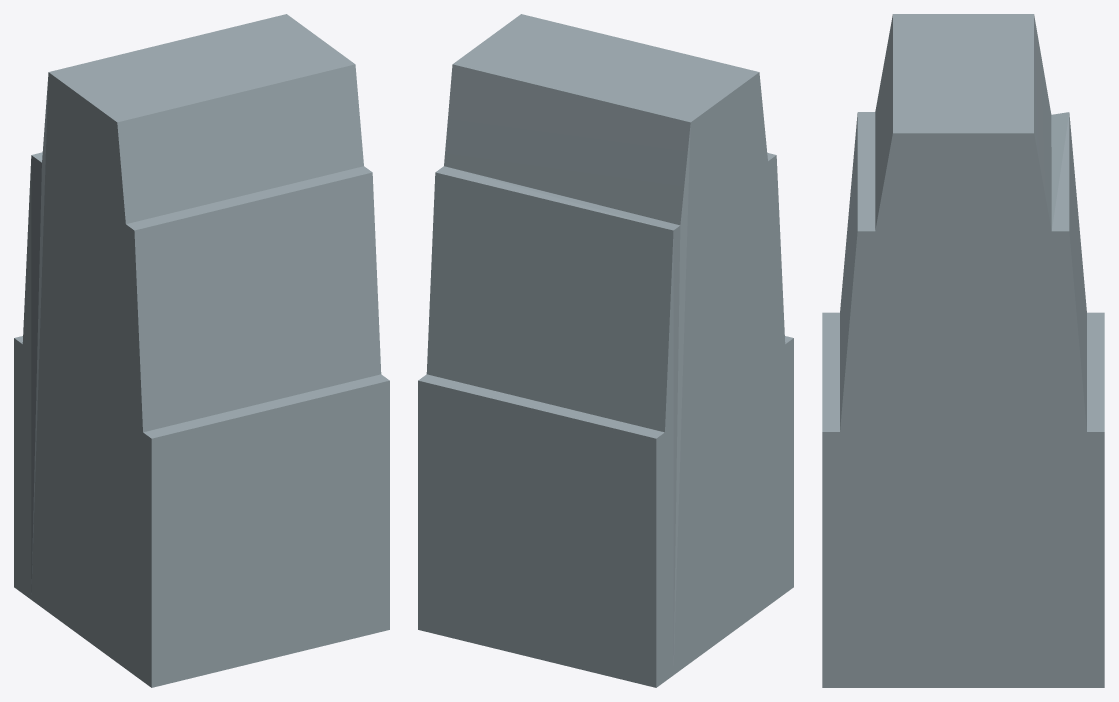
Rendered from Hochhaus4.fbx.
The picture shows the model from 3 angles, left to right: view 1: azimuth 30°, elevation 25°; view 2: azimuth 150°, elevation 25°; view 3: azimuth 270°, elevation 25°; orthographic projection. The views are drawn at different scales.
Visible parts, largest first — view 1: mesh_684660134; view 2: mesh_684660134; view 3: mesh_684660134.
Part boxes in pixels (x1,y1,x2,y2): mesh_684660134: [14, 14, 389, 687]; mesh_684660134: [418, 14, 793, 687]; mesh_684660134: [822, 14, 1104, 687].
Bounding box in the file's own units: 54.81 × 119 × 54.81.
